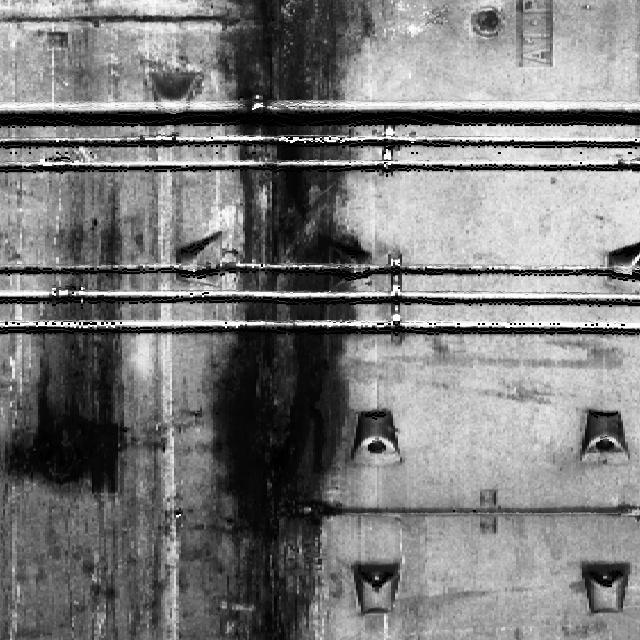leakage: (189, 0, 371, 636), (2, 190, 128, 500)
